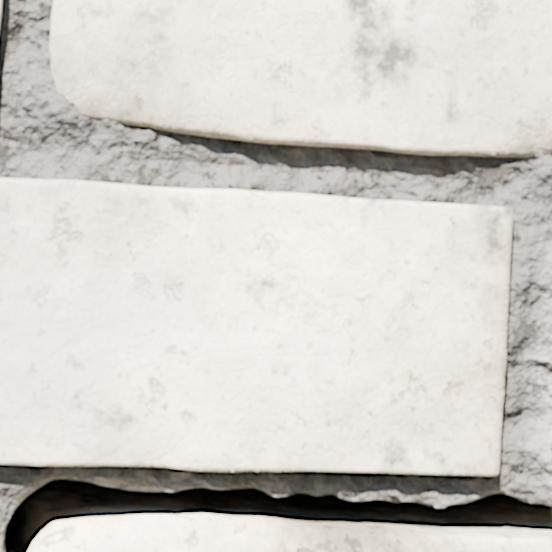brick: (0, 178, 511, 475), (50, 0, 551, 156), (45, 526, 551, 551), (0, 0, 1, 19)
crack: (0, 477, 551, 551)
